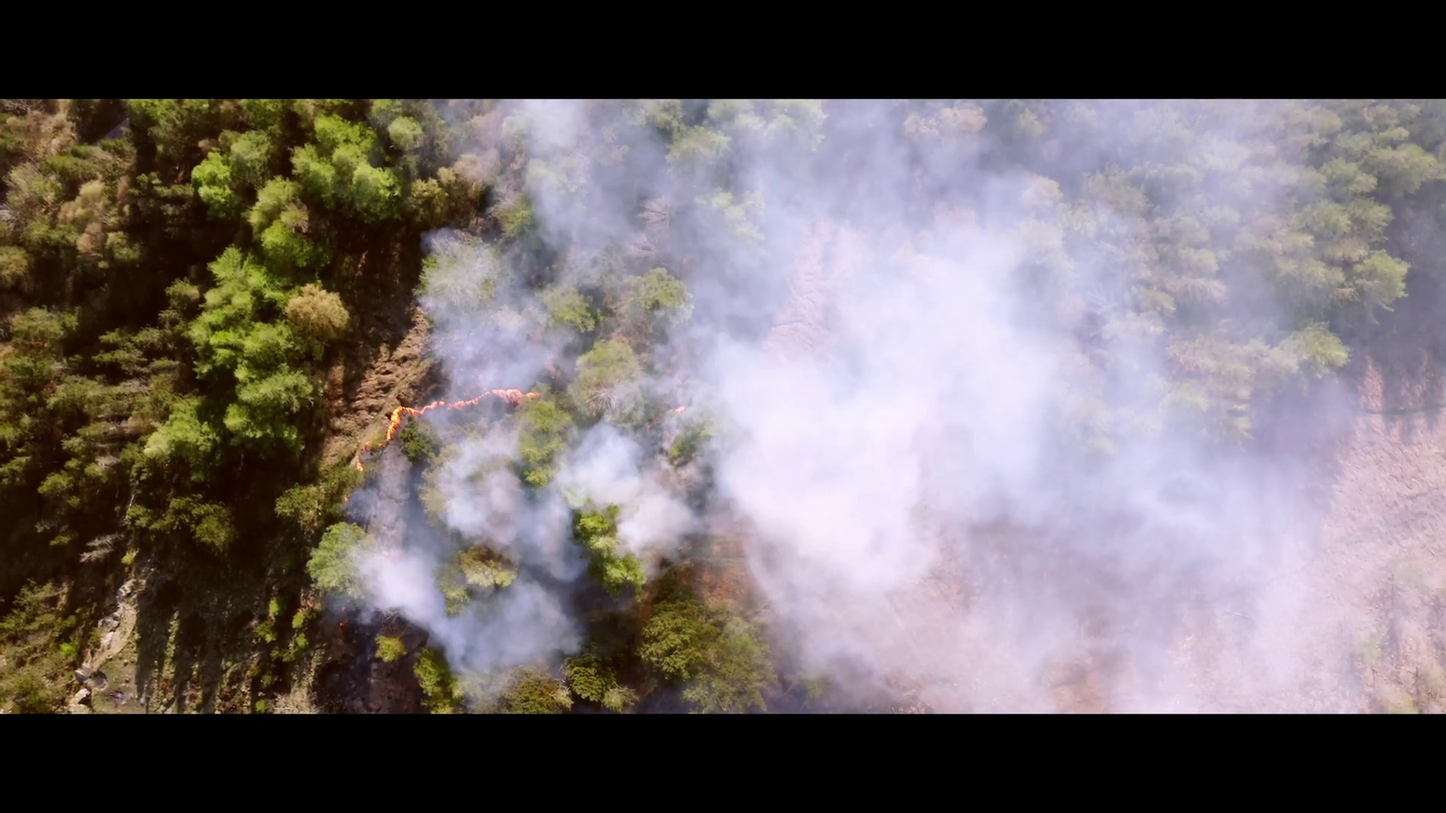forest_fire: (383, 389, 539, 444)
